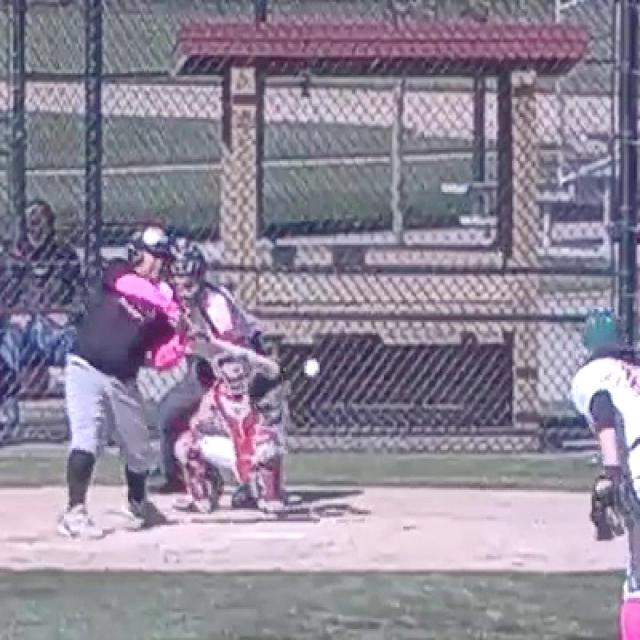baseball: (305, 361, 318, 375)
